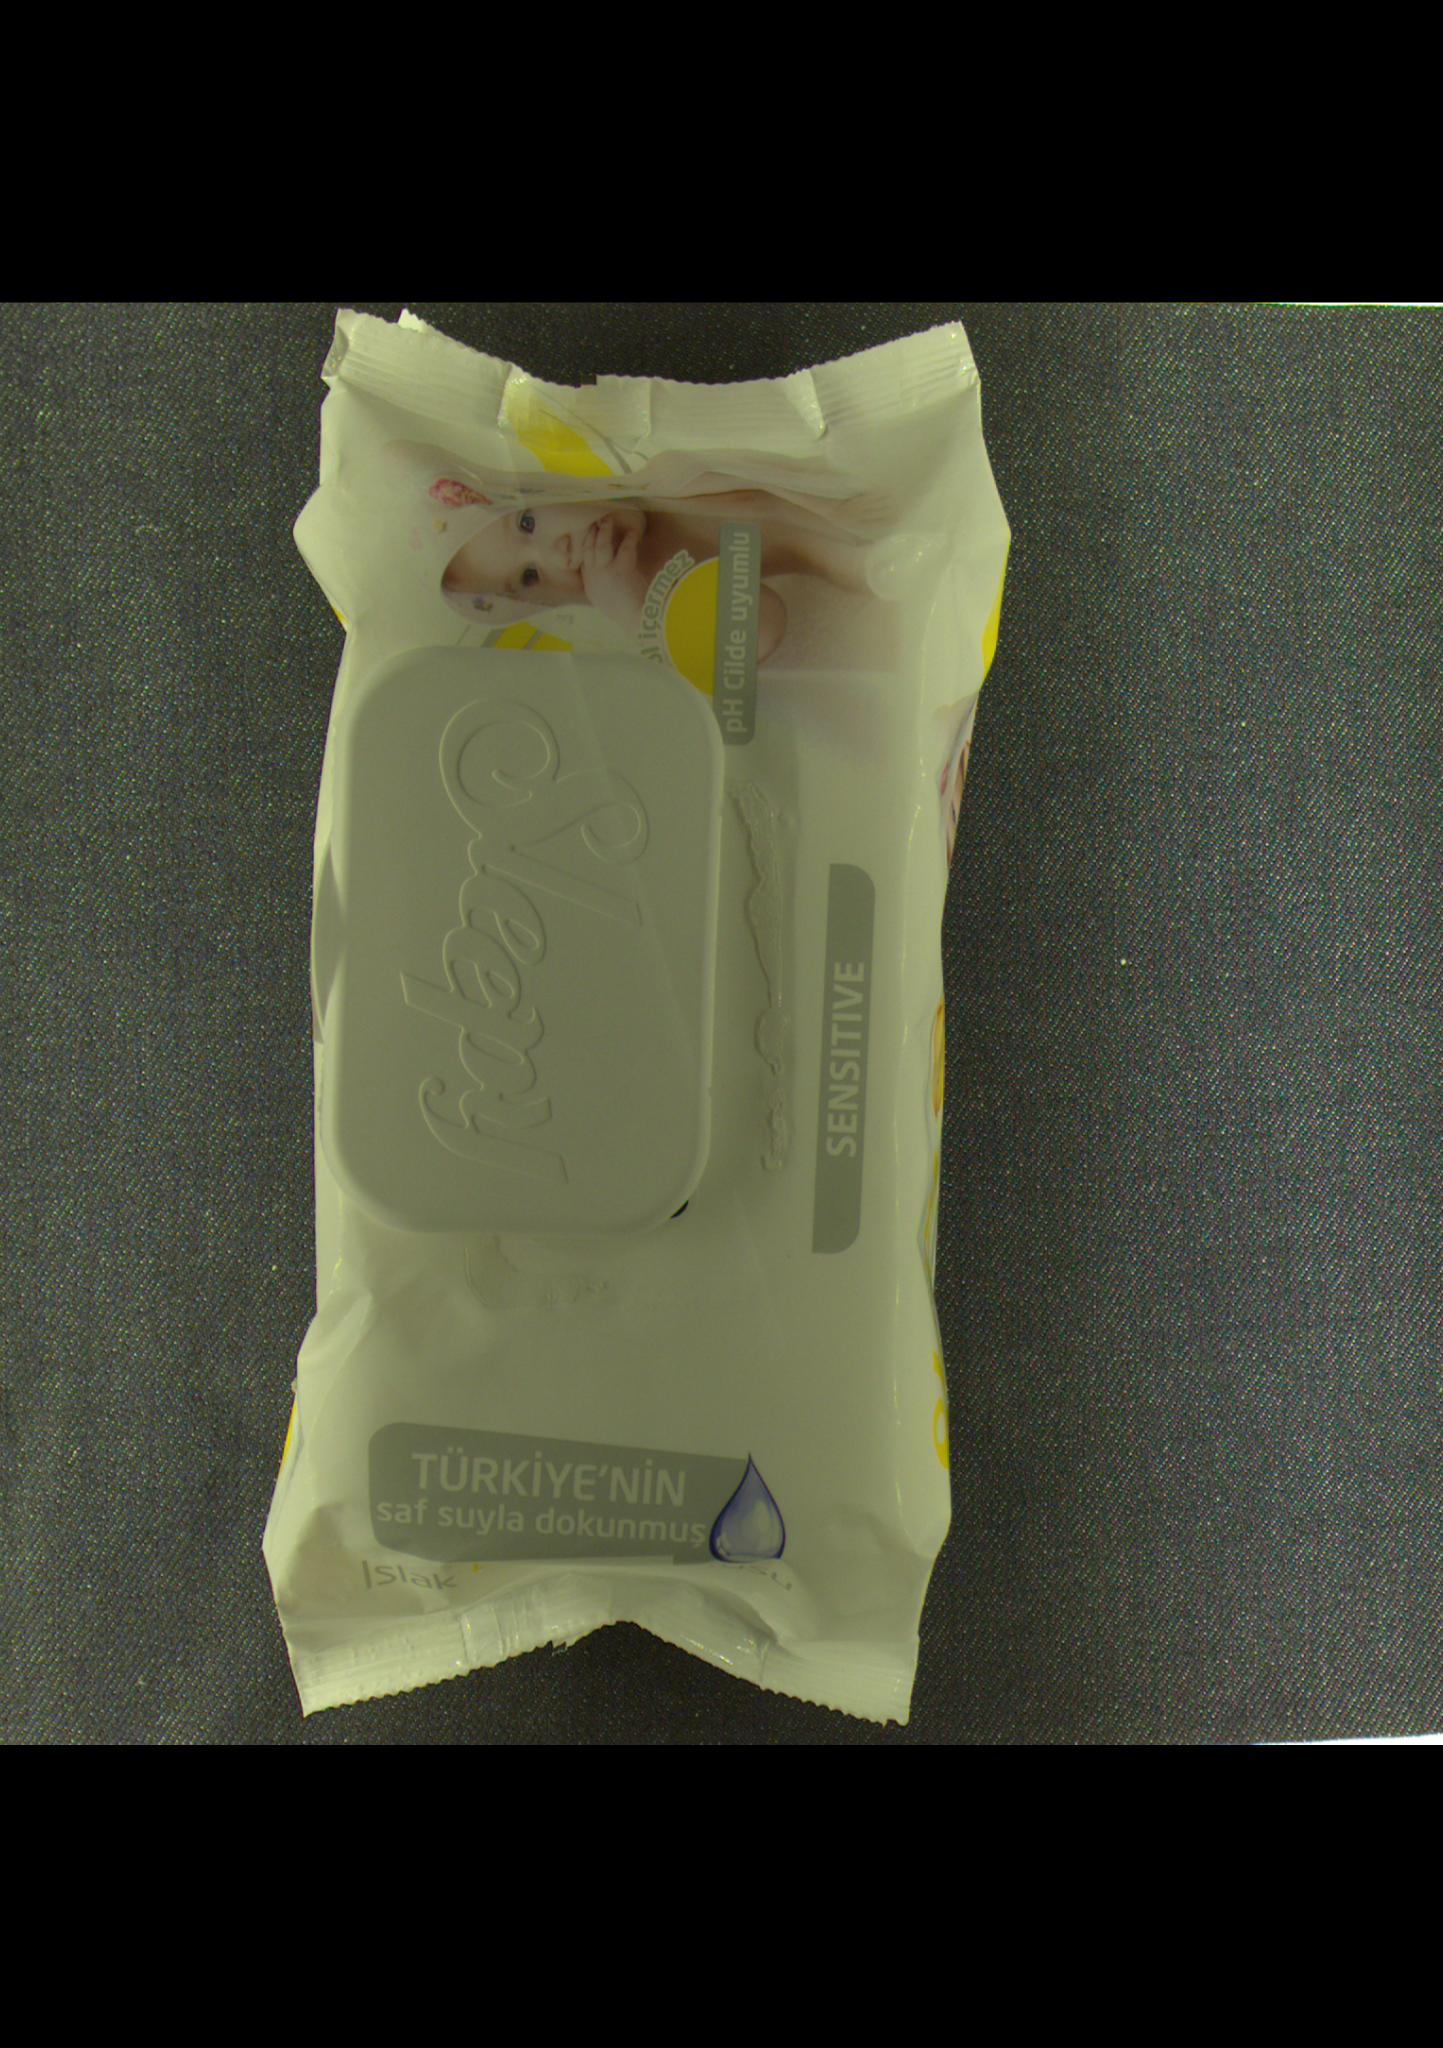kapak: (317, 646, 720, 1243)
